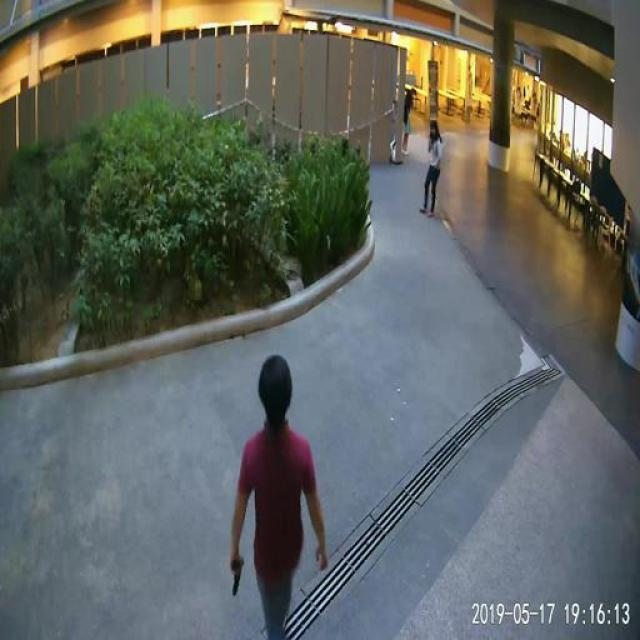Gun: (215, 548, 253, 604)
